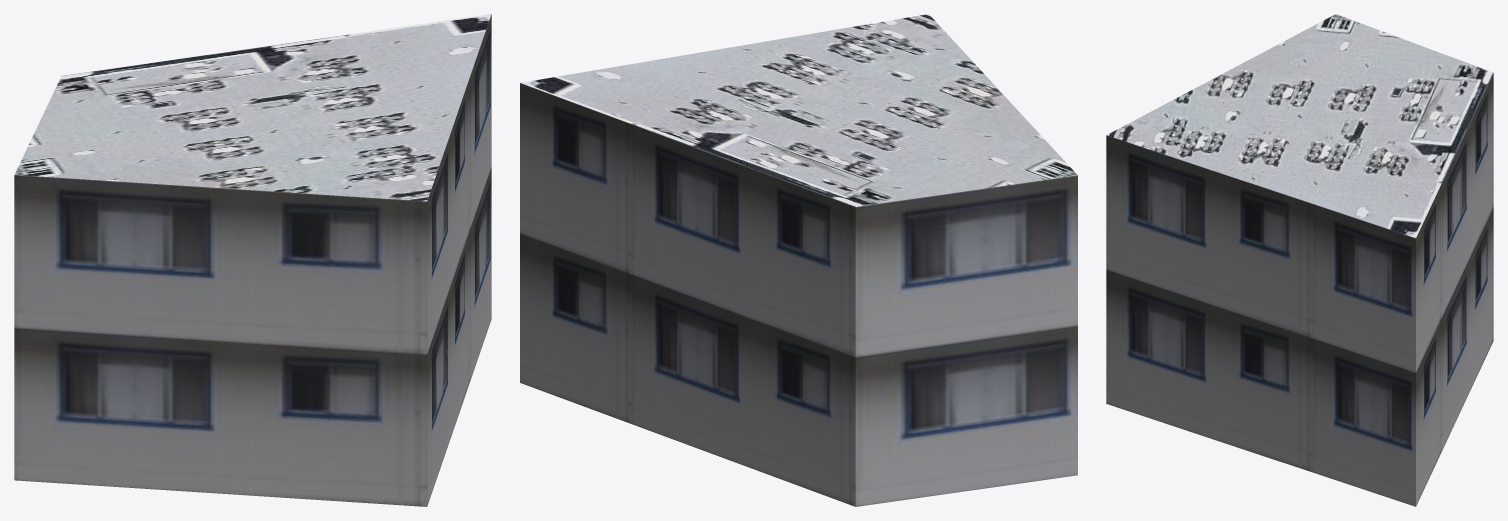
Rendered from ResTex__3985.fbx.
3 renders of one model, left to right at view 1: azimuth 30°, elevation 25°; view 2: azimuth 150°, elevation 25°; view 3: azimuth 270°, elevation 25°, orthographic. The views are drawn at different scales.
Parts seen in each view (by area): view 1: CityEngineMaterial_9_m, CityEngineMaterial_m; view 2: CityEngineMaterial_9_m, CityEngineMaterial_m; view 3: CityEngineMaterial_9_m, CityEngineMaterial_m.
Boxes of the visible parts, x1,y1,x2,y2 form: CityEngineMaterial_9_m: [14, 14, 491, 506]; CityEngineMaterial_m: [14, 14, 491, 201]; CityEngineMaterial_9_m: [520, 83, 1077, 506]; CityEngineMaterial_m: [521, 14, 1077, 206]; CityEngineMaterial_9_m: [1106, 73, 1493, 506]; CityEngineMaterial_m: [1106, 14, 1492, 237].
Size of the model in its own units: 10.74 by 6 by 7.83.
2 materials, 2 textured.
